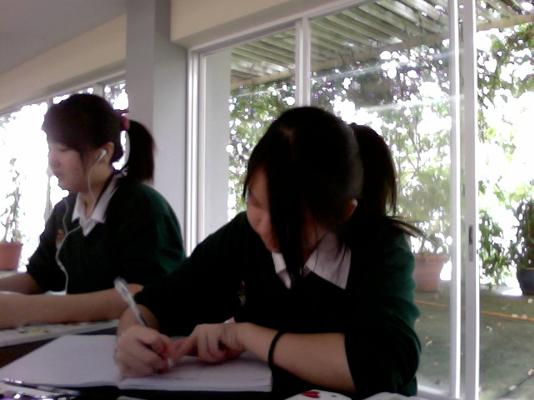person: (117, 108, 420, 398)
